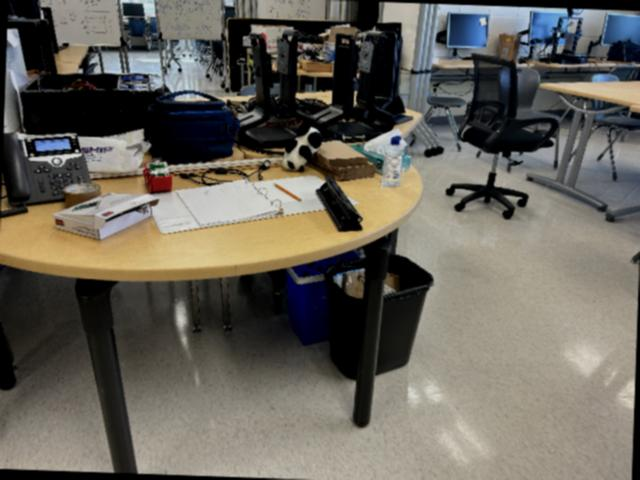panda_plushie: (282, 123, 324, 172)
